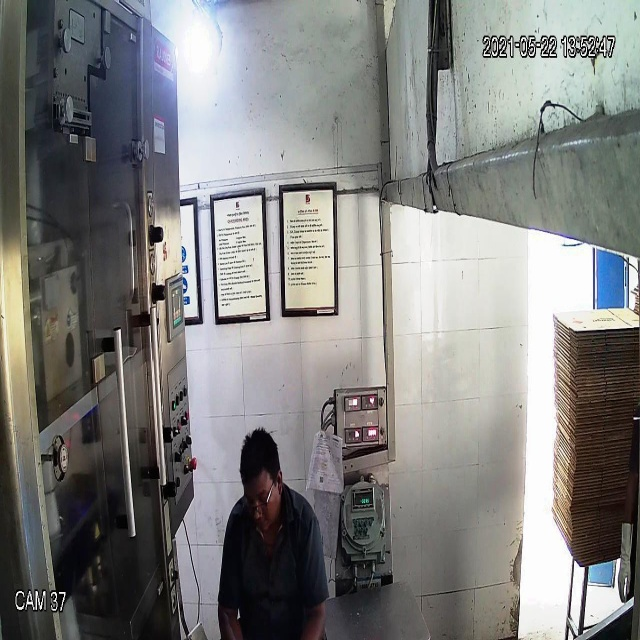Gafas: (242, 482, 279, 516)
